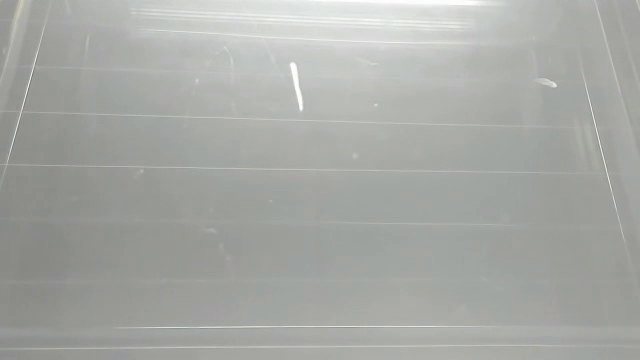alpha: (287, 58, 310, 115), (529, 73, 561, 91)
